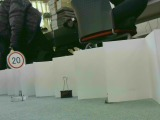speed_20: (6, 51, 26, 69)
